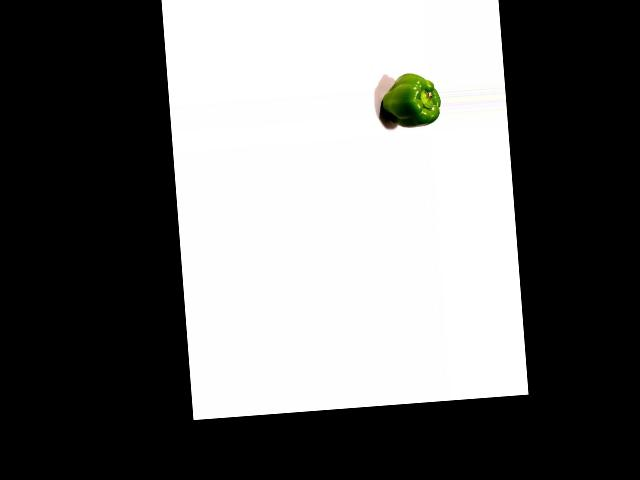bell_pepper: (376, 69, 441, 131)
